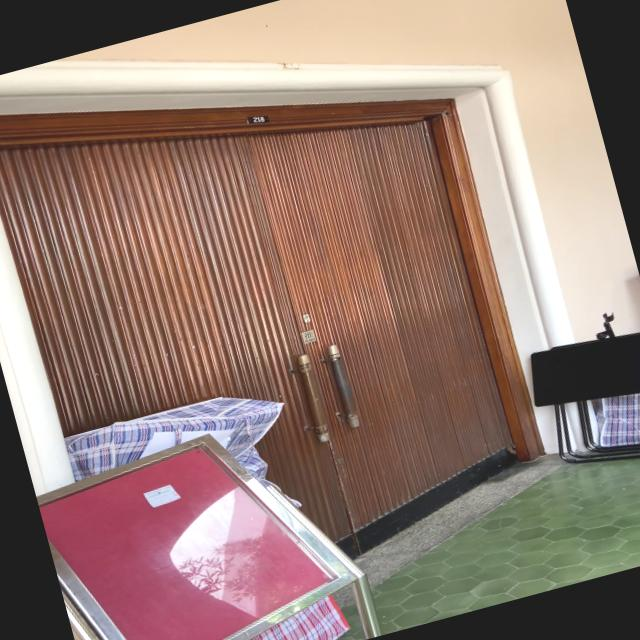room218: (245, 110, 272, 127)
